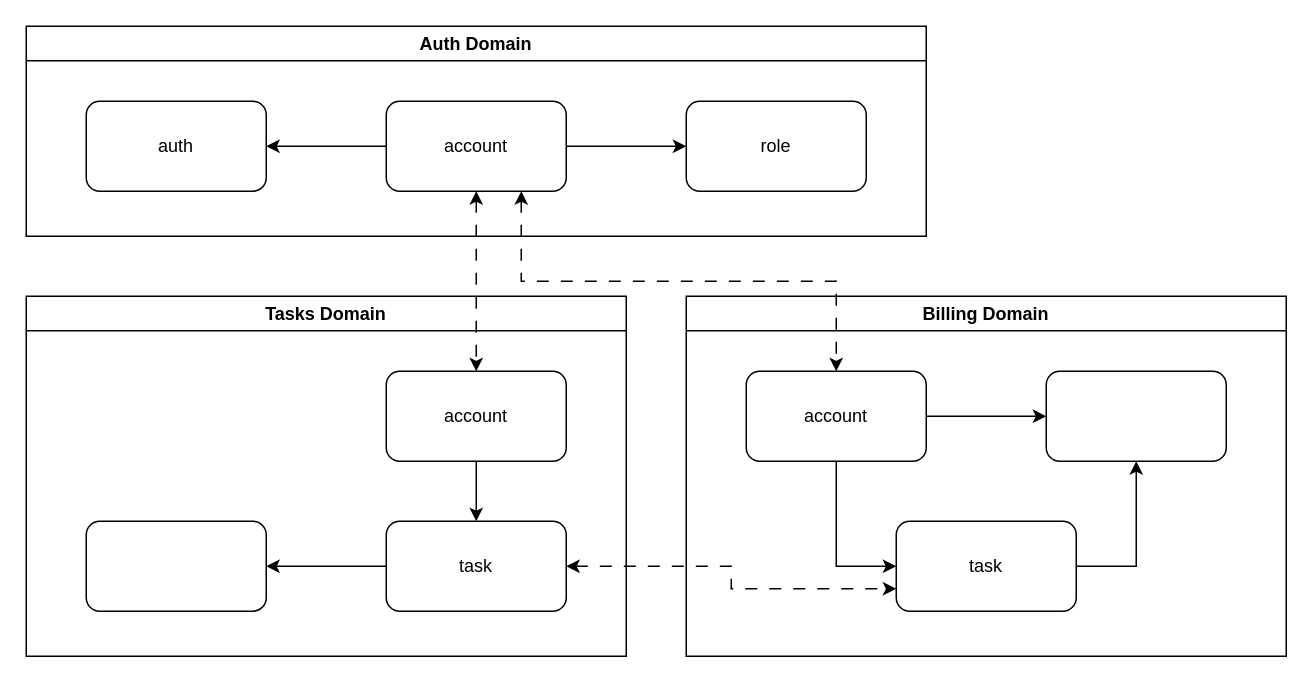
Image size: 1313x683. Some labels were removed from this diagram. The shapes that lost their labels are listed below. From the top down, each one's centre as x and y in pixels, then its label:
[1135,415]: billing
[175,565]: status
